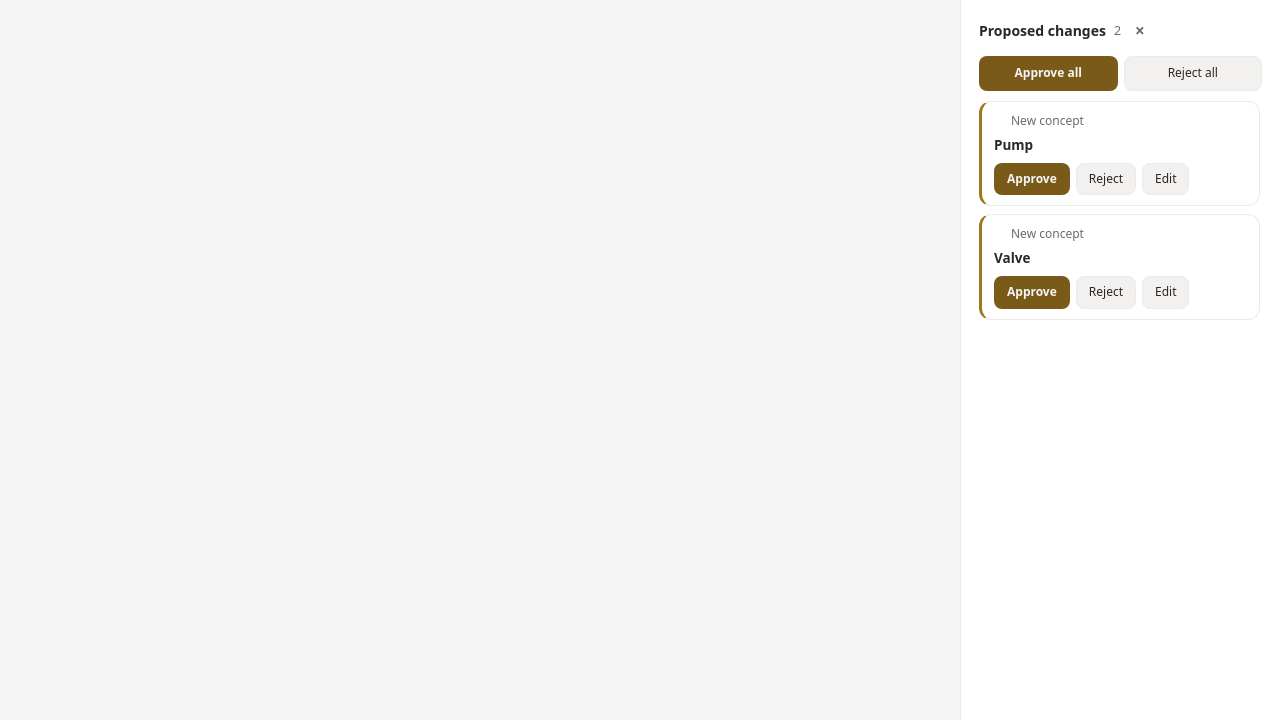
Test: destructive rejects › Reject all asks first, and rejects only on confirmation
The image size is (1280, 720).
Click the button with id "rejectAll".
click(1193, 74)  # box [1124,56,1262,91]
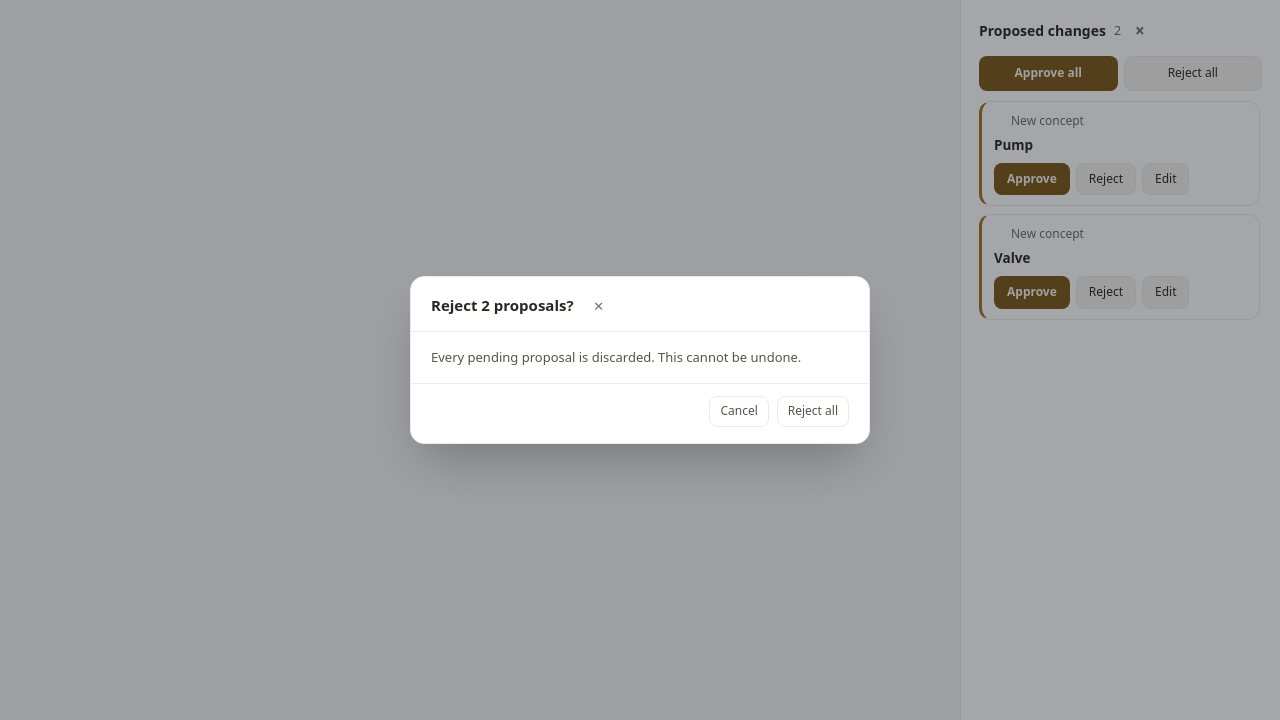
Now the text "Reject 2 proposals?" is shown, box [431,294,574,318]
Now the text "Every pending proposal is discarded. This cannot be undone." is shown, box [431,348,801,366]
Now the button with class "danger" reads "Reject all"
Click the button with class "danger".
click(813, 412)  # box [777,396,849,427]
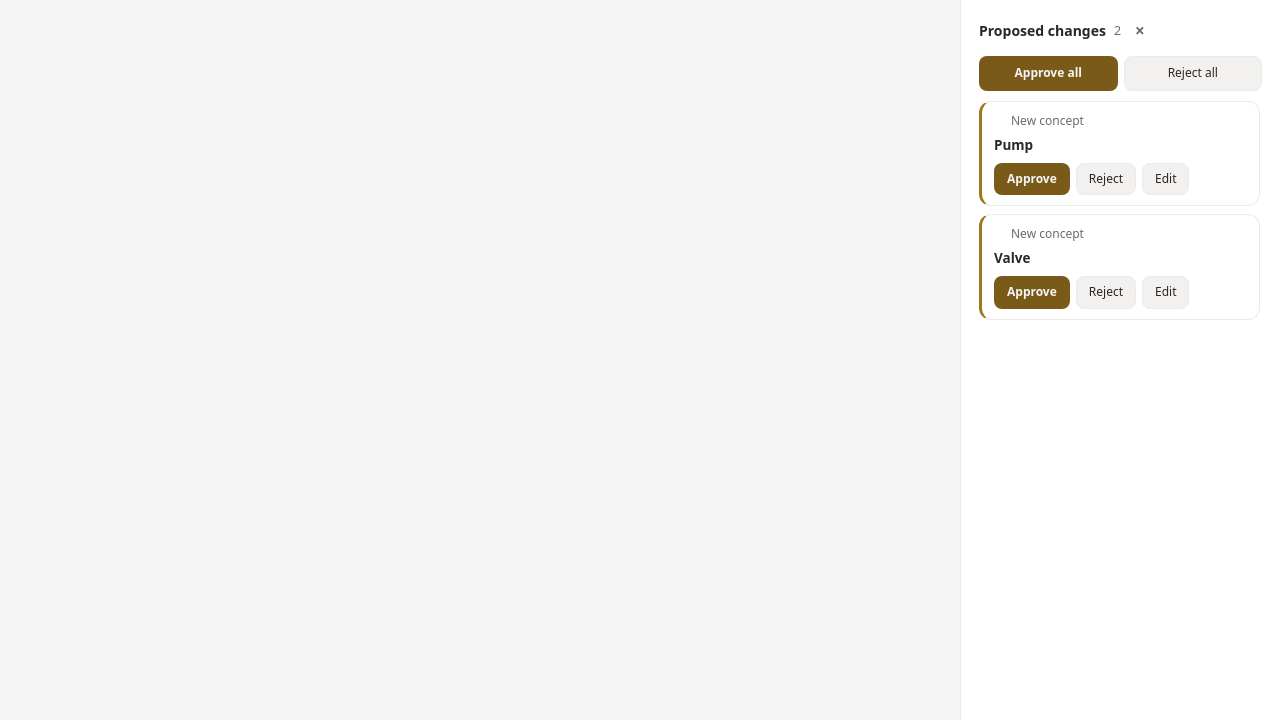
Now the dialog with class "dlg" is gone
